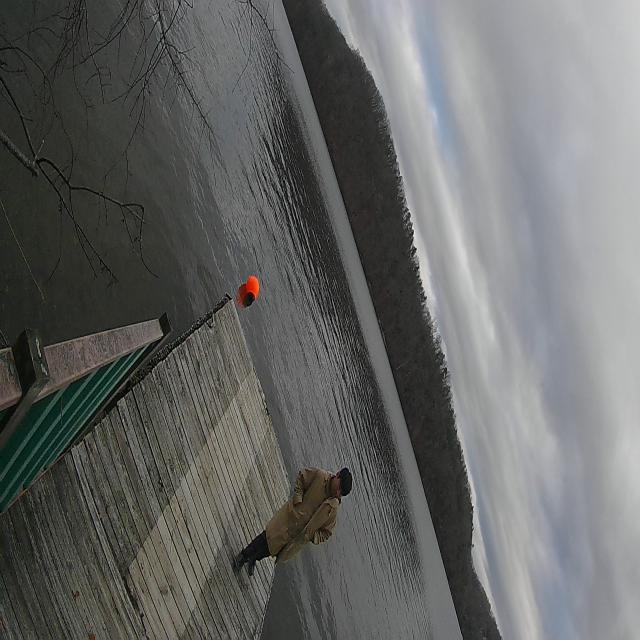Buoy: (244, 270, 260, 308)
